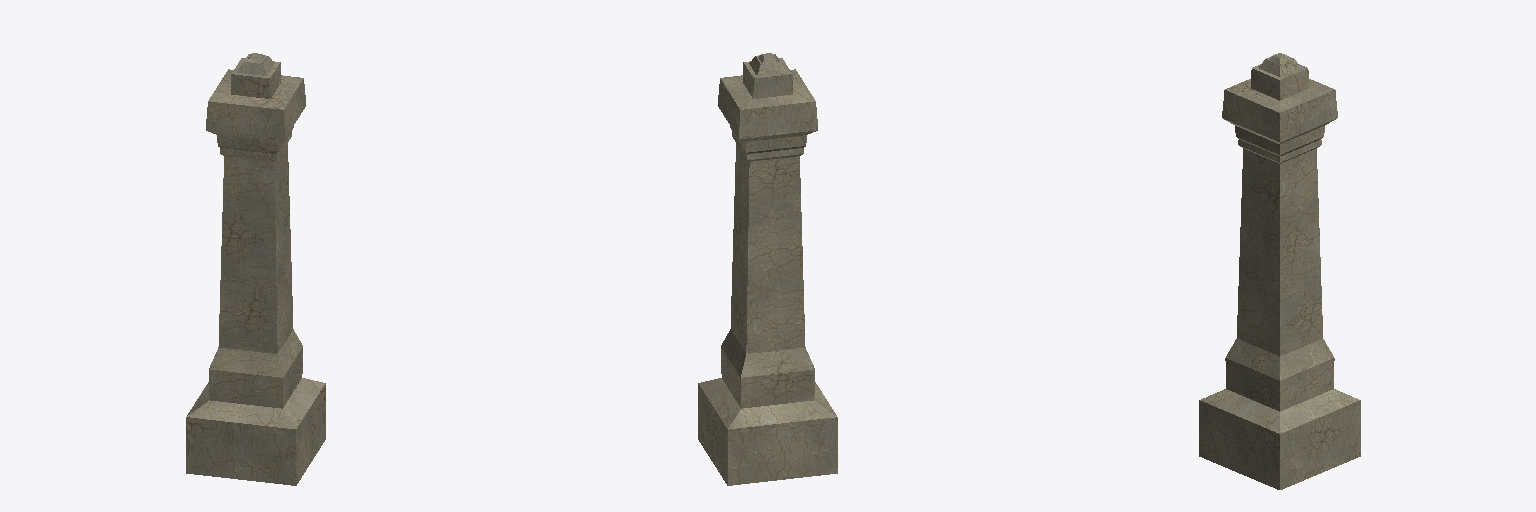
The picture shows the model from 3 angles: view 1: azimuth 30°, elevation 25°; view 2: azimuth 150°, elevation 25°; view 3: azimuth 270°, elevation 25°; orthographic projection.
Bounding box in the file's own units: 2.8 × 7.69 × 2.8.
Materials: 1 (1 with a texture image).